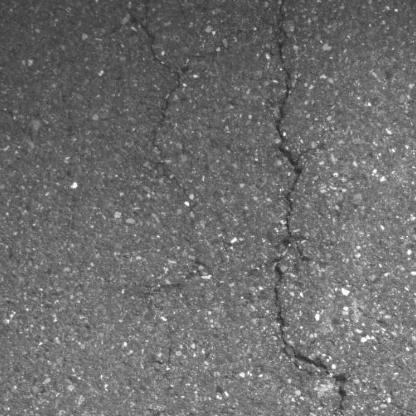Cracks: (269, 253, 357, 416), (272, 0, 307, 242), (136, 19, 186, 156)
